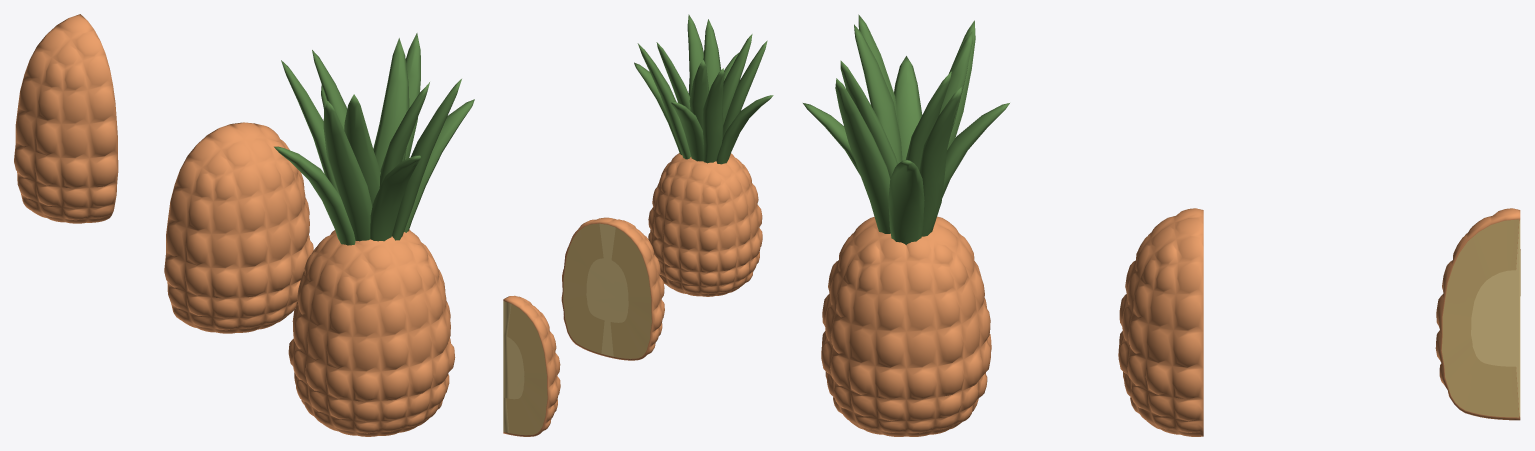
The model's file is ananas.fbx.
The picture shows the model from 3 angles, left to right: view 1: azimuth 30°, elevation 25°; view 2: azimuth 150°, elevation 25°; view 3: azimuth 270°, elevation 25°; orthographic projection. The views are drawn at different scales.
Visible parts, largest first — view 1: Ananas.001, Ananas, Ananas.002; view 2: Ananas.001, Ananas, Ananas.002; view 3: Ananas.001, Ananas, Ananas.002.
Part boxes in pixels (x1=…): Ananas.001: x1=274, y1=33, x2=474, y2=436; Ananas: x1=164, y1=122, x2=313, y2=333; Ananas.002: x1=14, y1=14, x2=118, y2=223; Ananas.001: x1=634, y1=14, x2=773, y2=296; Ananas: x1=561, y1=217, x2=664, y2=360; Ananas.002: x1=503, y1=295, x2=560, y2=436; Ananas.001: x1=803, y1=14, x2=1009, y2=436; Ananas: x1=1118, y1=208, x2=1203, y2=436; Ananas.002: x1=1435, y1=208, x2=1520, y2=420.
Size of the model in its own units: 320 by 540 by 938.
